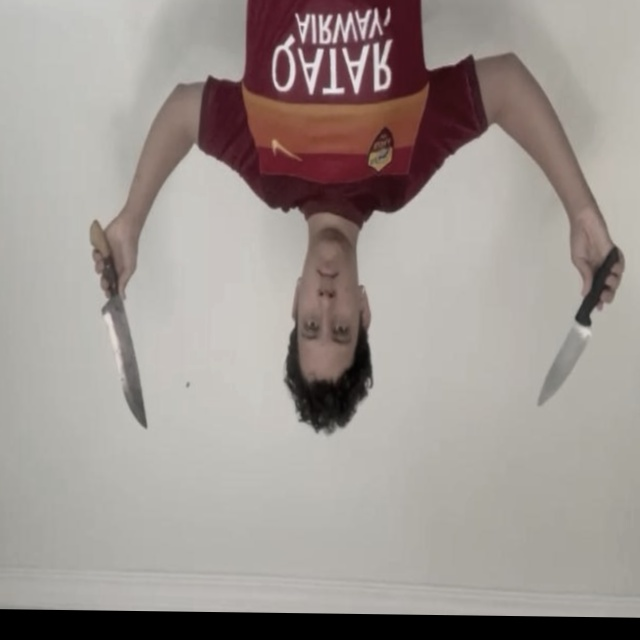Sharp-Object: (100, 299, 148, 428), (536, 322, 589, 410)
